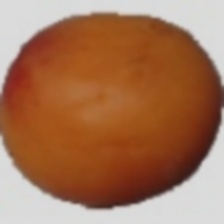apricot: (38, 23, 177, 161)
